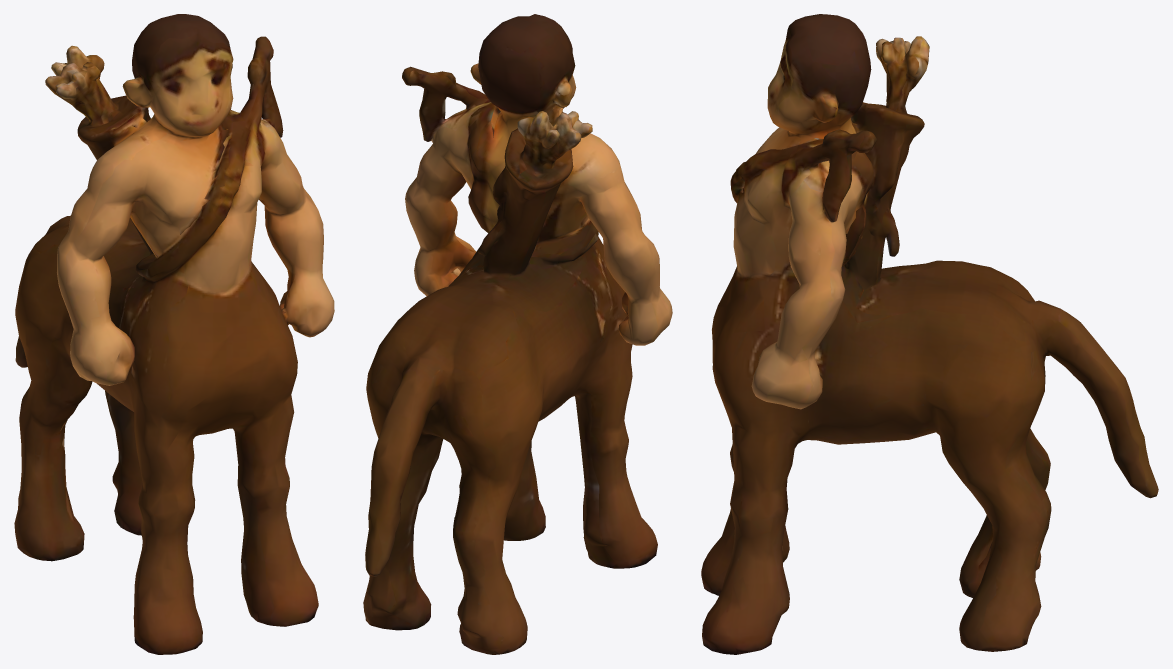
The model's file is mob_centaur.glb.
The picture shows the model from 3 angles, left to right: view 1: azimuth 30°, elevation 25°; view 2: azimuth 150°, elevation 25°; view 3: azimuth 270°, elevation 25°; orthographic projection. The views are drawn at different scales.
Visible parts, largest first — view 1: geometry_0; view 2: geometry_0; view 3: geometry_0.
Boxes of the visible parts, x1,y1,x2,y2 form: geometry_0: (14, 14, 334, 654); geometry_0: (363, 14, 672, 654); geometry_0: (701, 14, 1158, 654).
Size of the model in its own units: 0.9187 by 1.96 by 1.37.
1 material, 1 textured.
